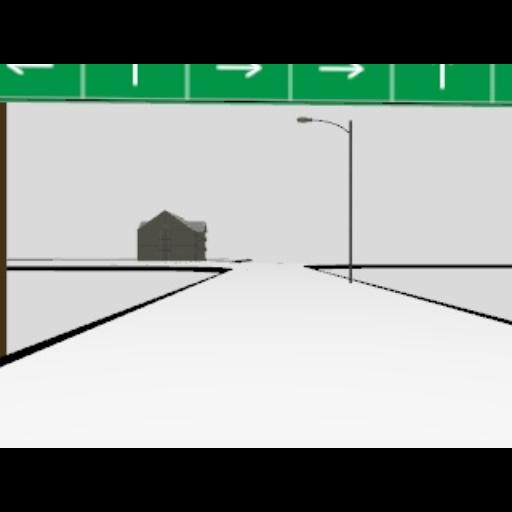Left: (5, 64, 53, 76)
Right: (309, 64, 369, 88), (214, 64, 262, 78)
